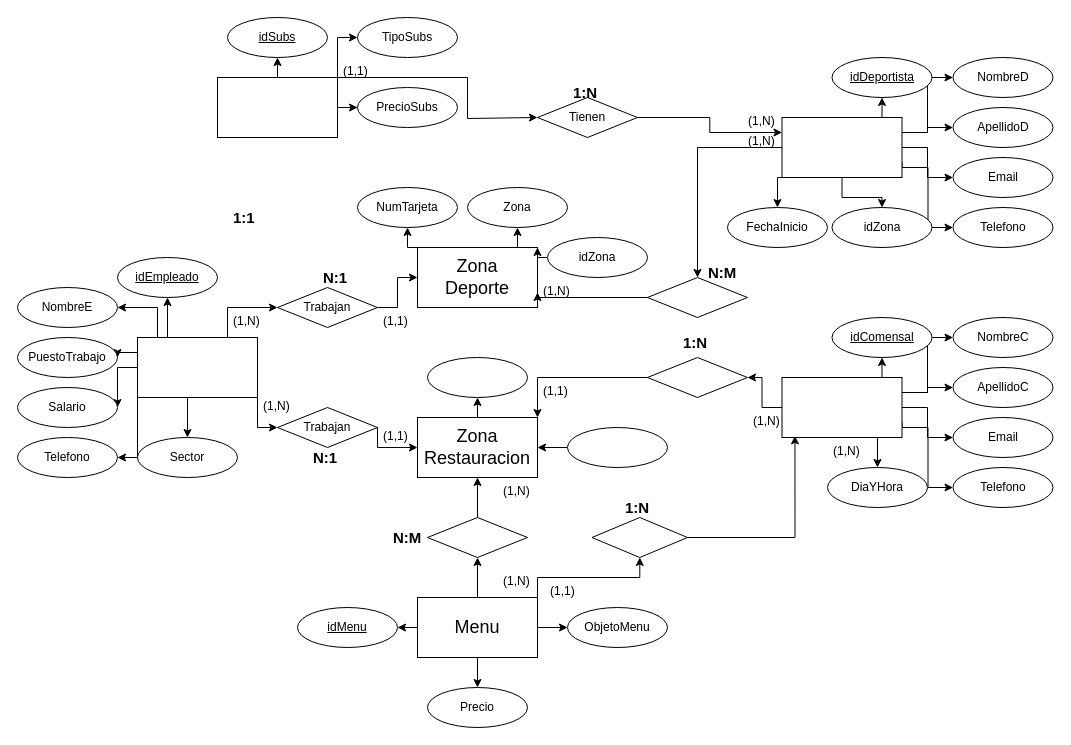
The diagram is 1071 pixels wide and 745 high, and some of its shapes have lost their labels. Here are the shapes that lost their labels. From the top down, the box of each, then its label:
(216, 76, 338, 138): Suscripcion
(781, 116, 902, 178): Deportistas
(646, 276, 748, 318): Entrenan
(136, 336, 258, 398): Empleados
(426, 356, 528, 398): idMesa
(646, 356, 748, 398): Comen
(781, 376, 902, 438): Comensales
(566, 426, 668, 468): MesaNum
(426, 516, 528, 558): SeSirve
(591, 516, 688, 558): EsComido
